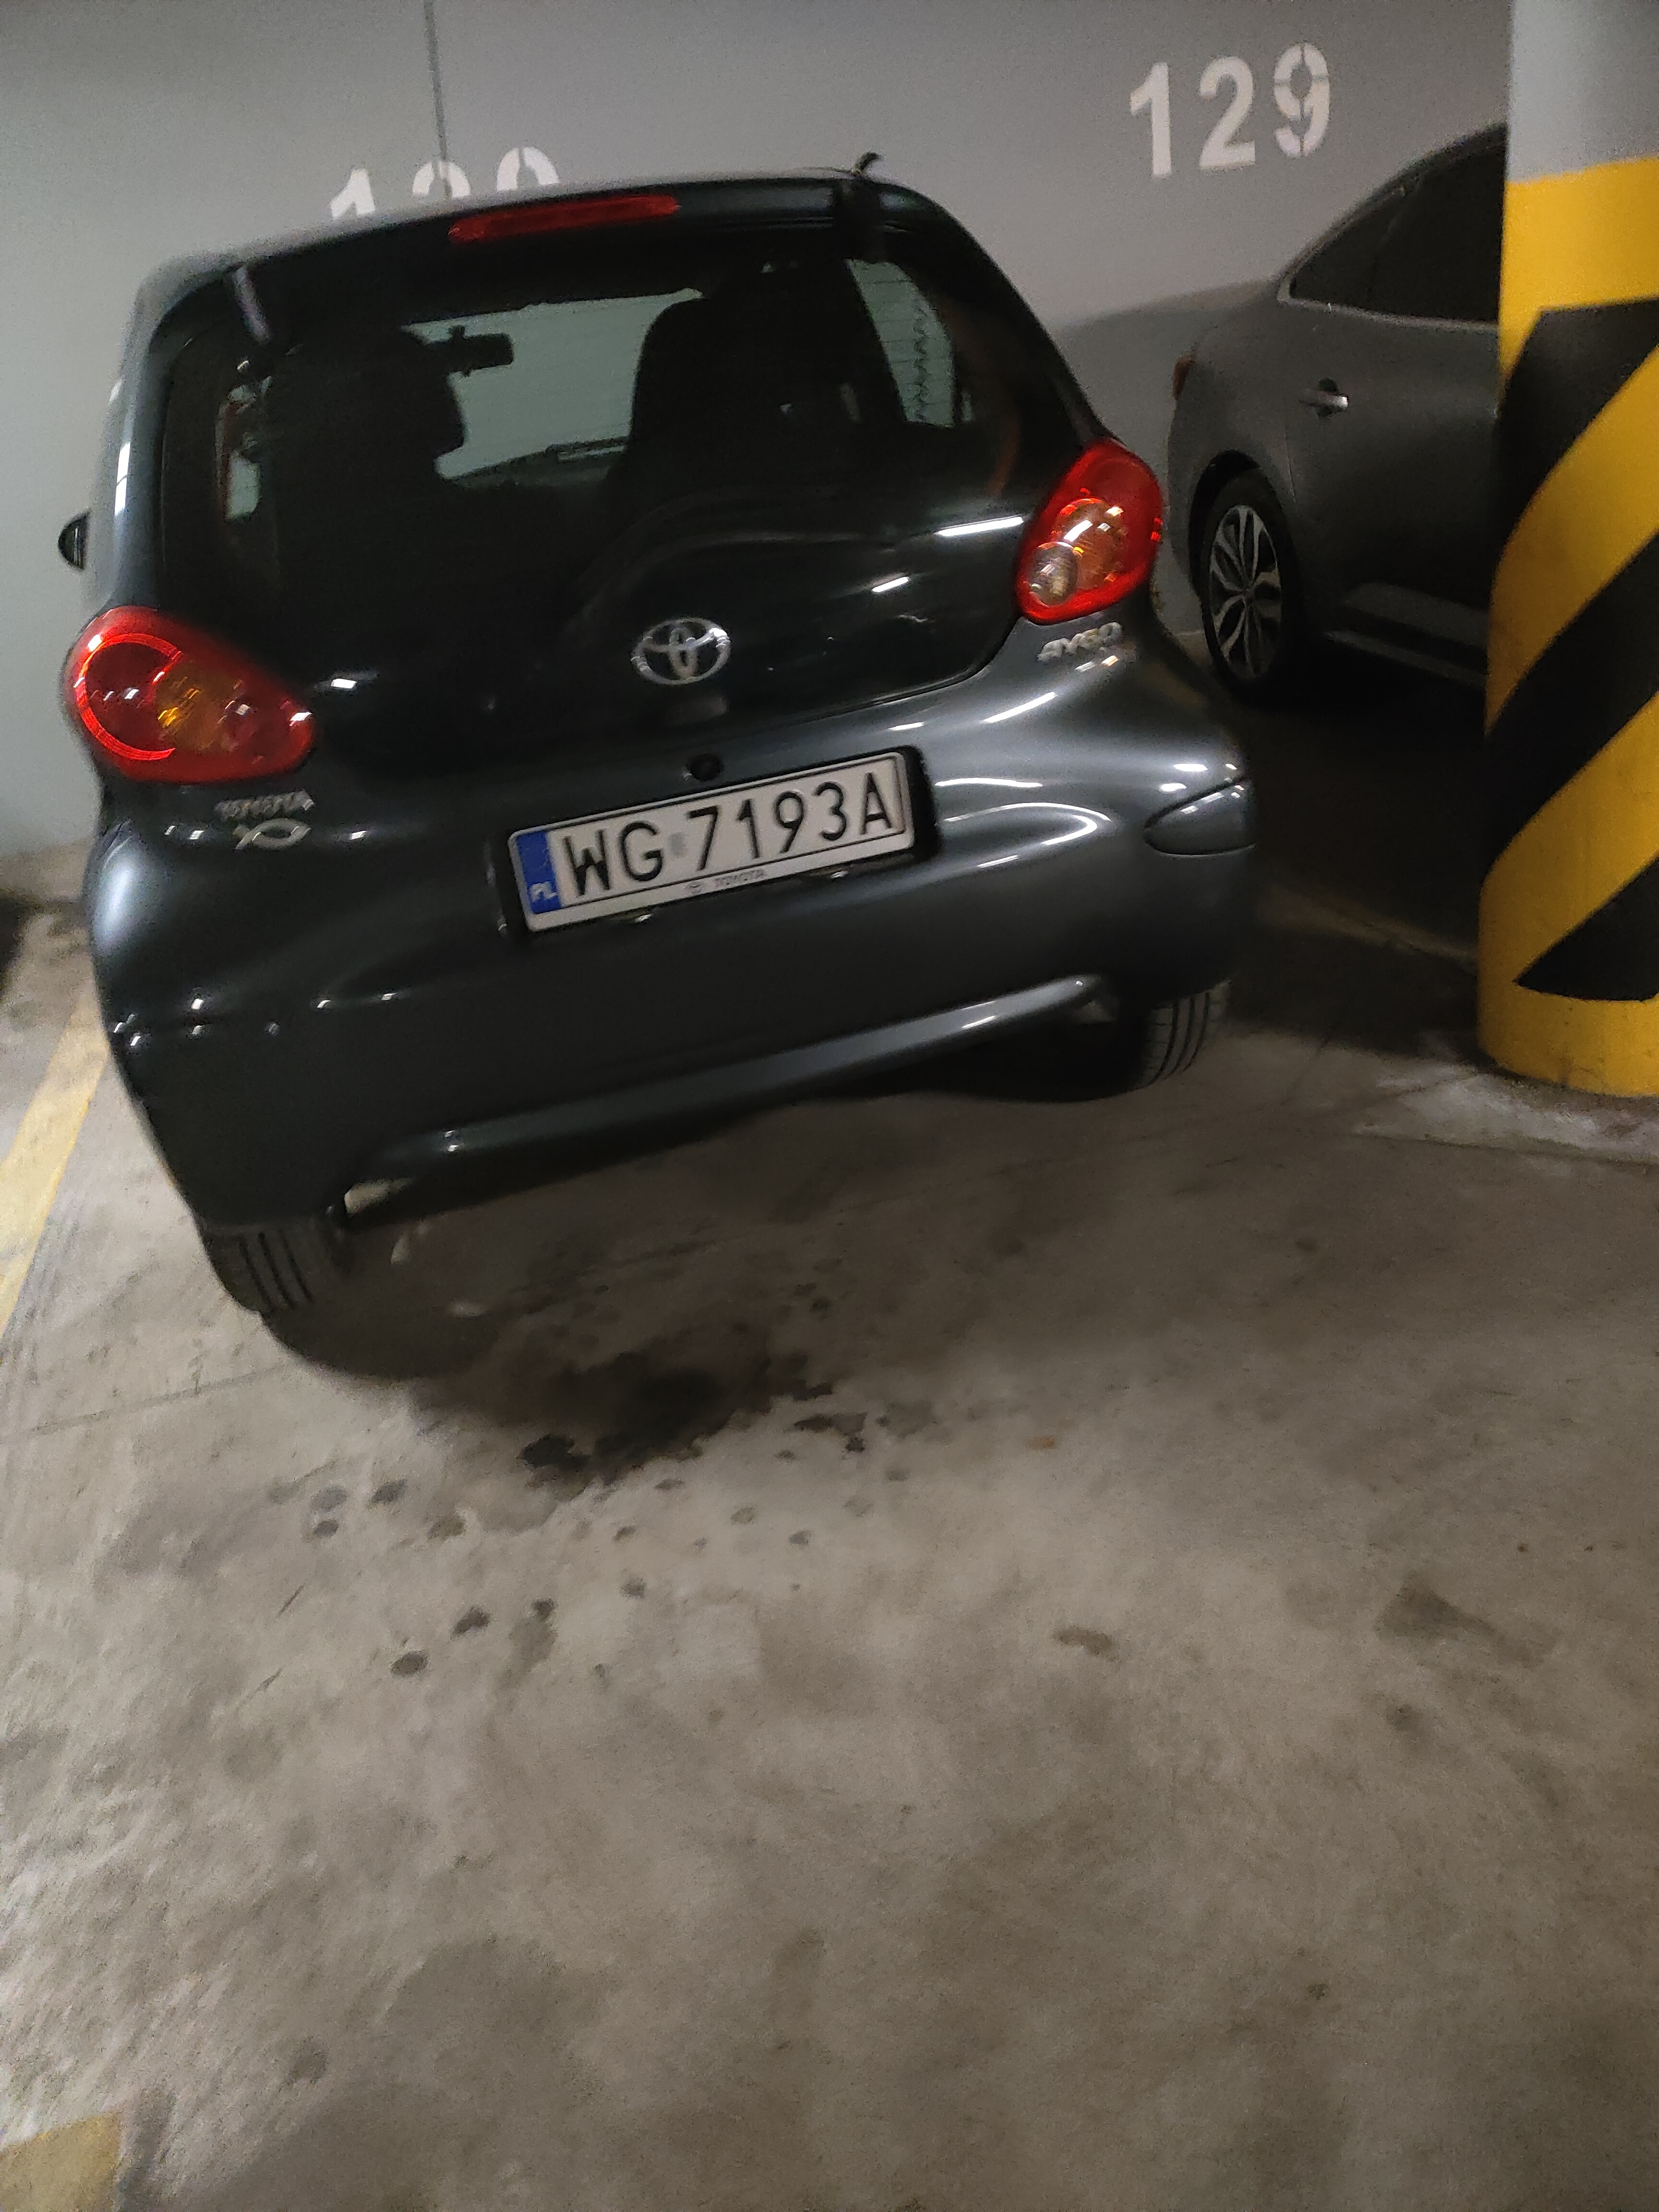number_plate: (515, 753, 933, 938)
